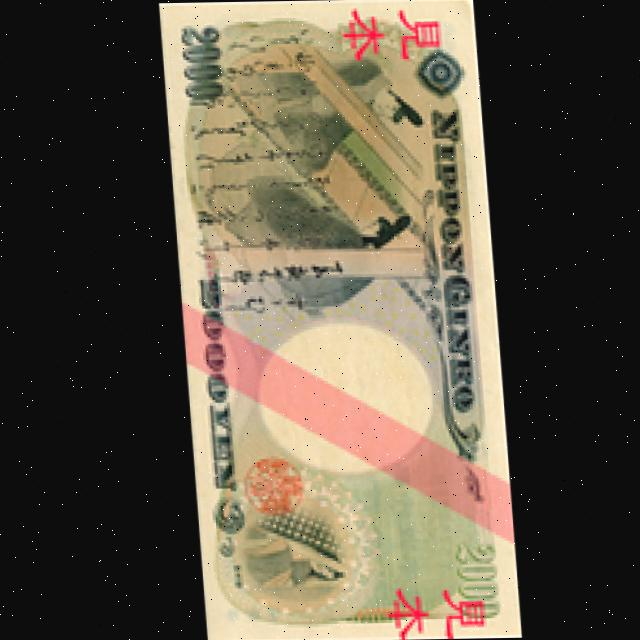banknote: (157, 0, 515, 639)
